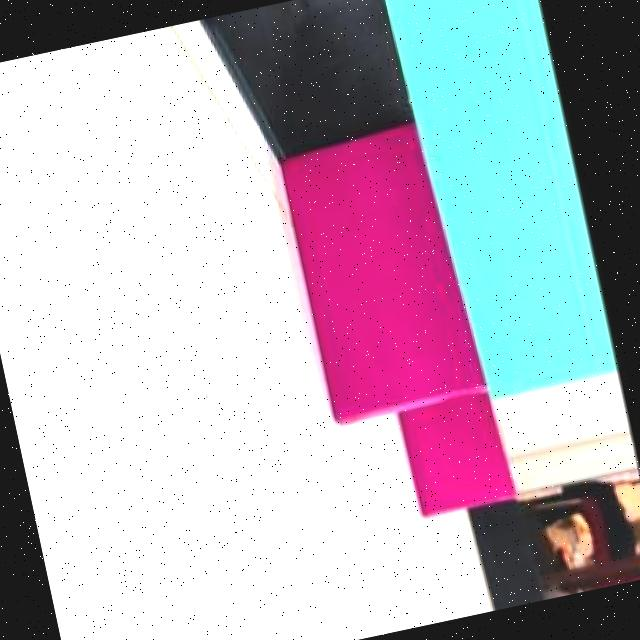xparking: (282, 128, 472, 418), (399, 392, 509, 514)
